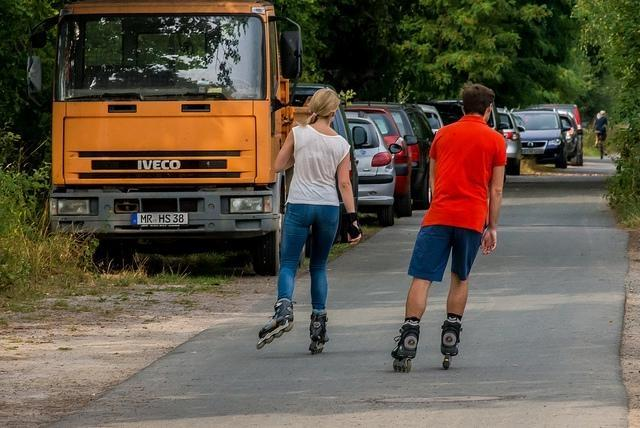bicycle: (595, 130, 603, 160)
car: (348, 101, 436, 211), (344, 106, 419, 218), (344, 115, 403, 228), (511, 107, 572, 169), (538, 105, 584, 165), (496, 106, 524, 177), (424, 101, 465, 126), (418, 104, 444, 134)
truck: (25, 0, 311, 276)
